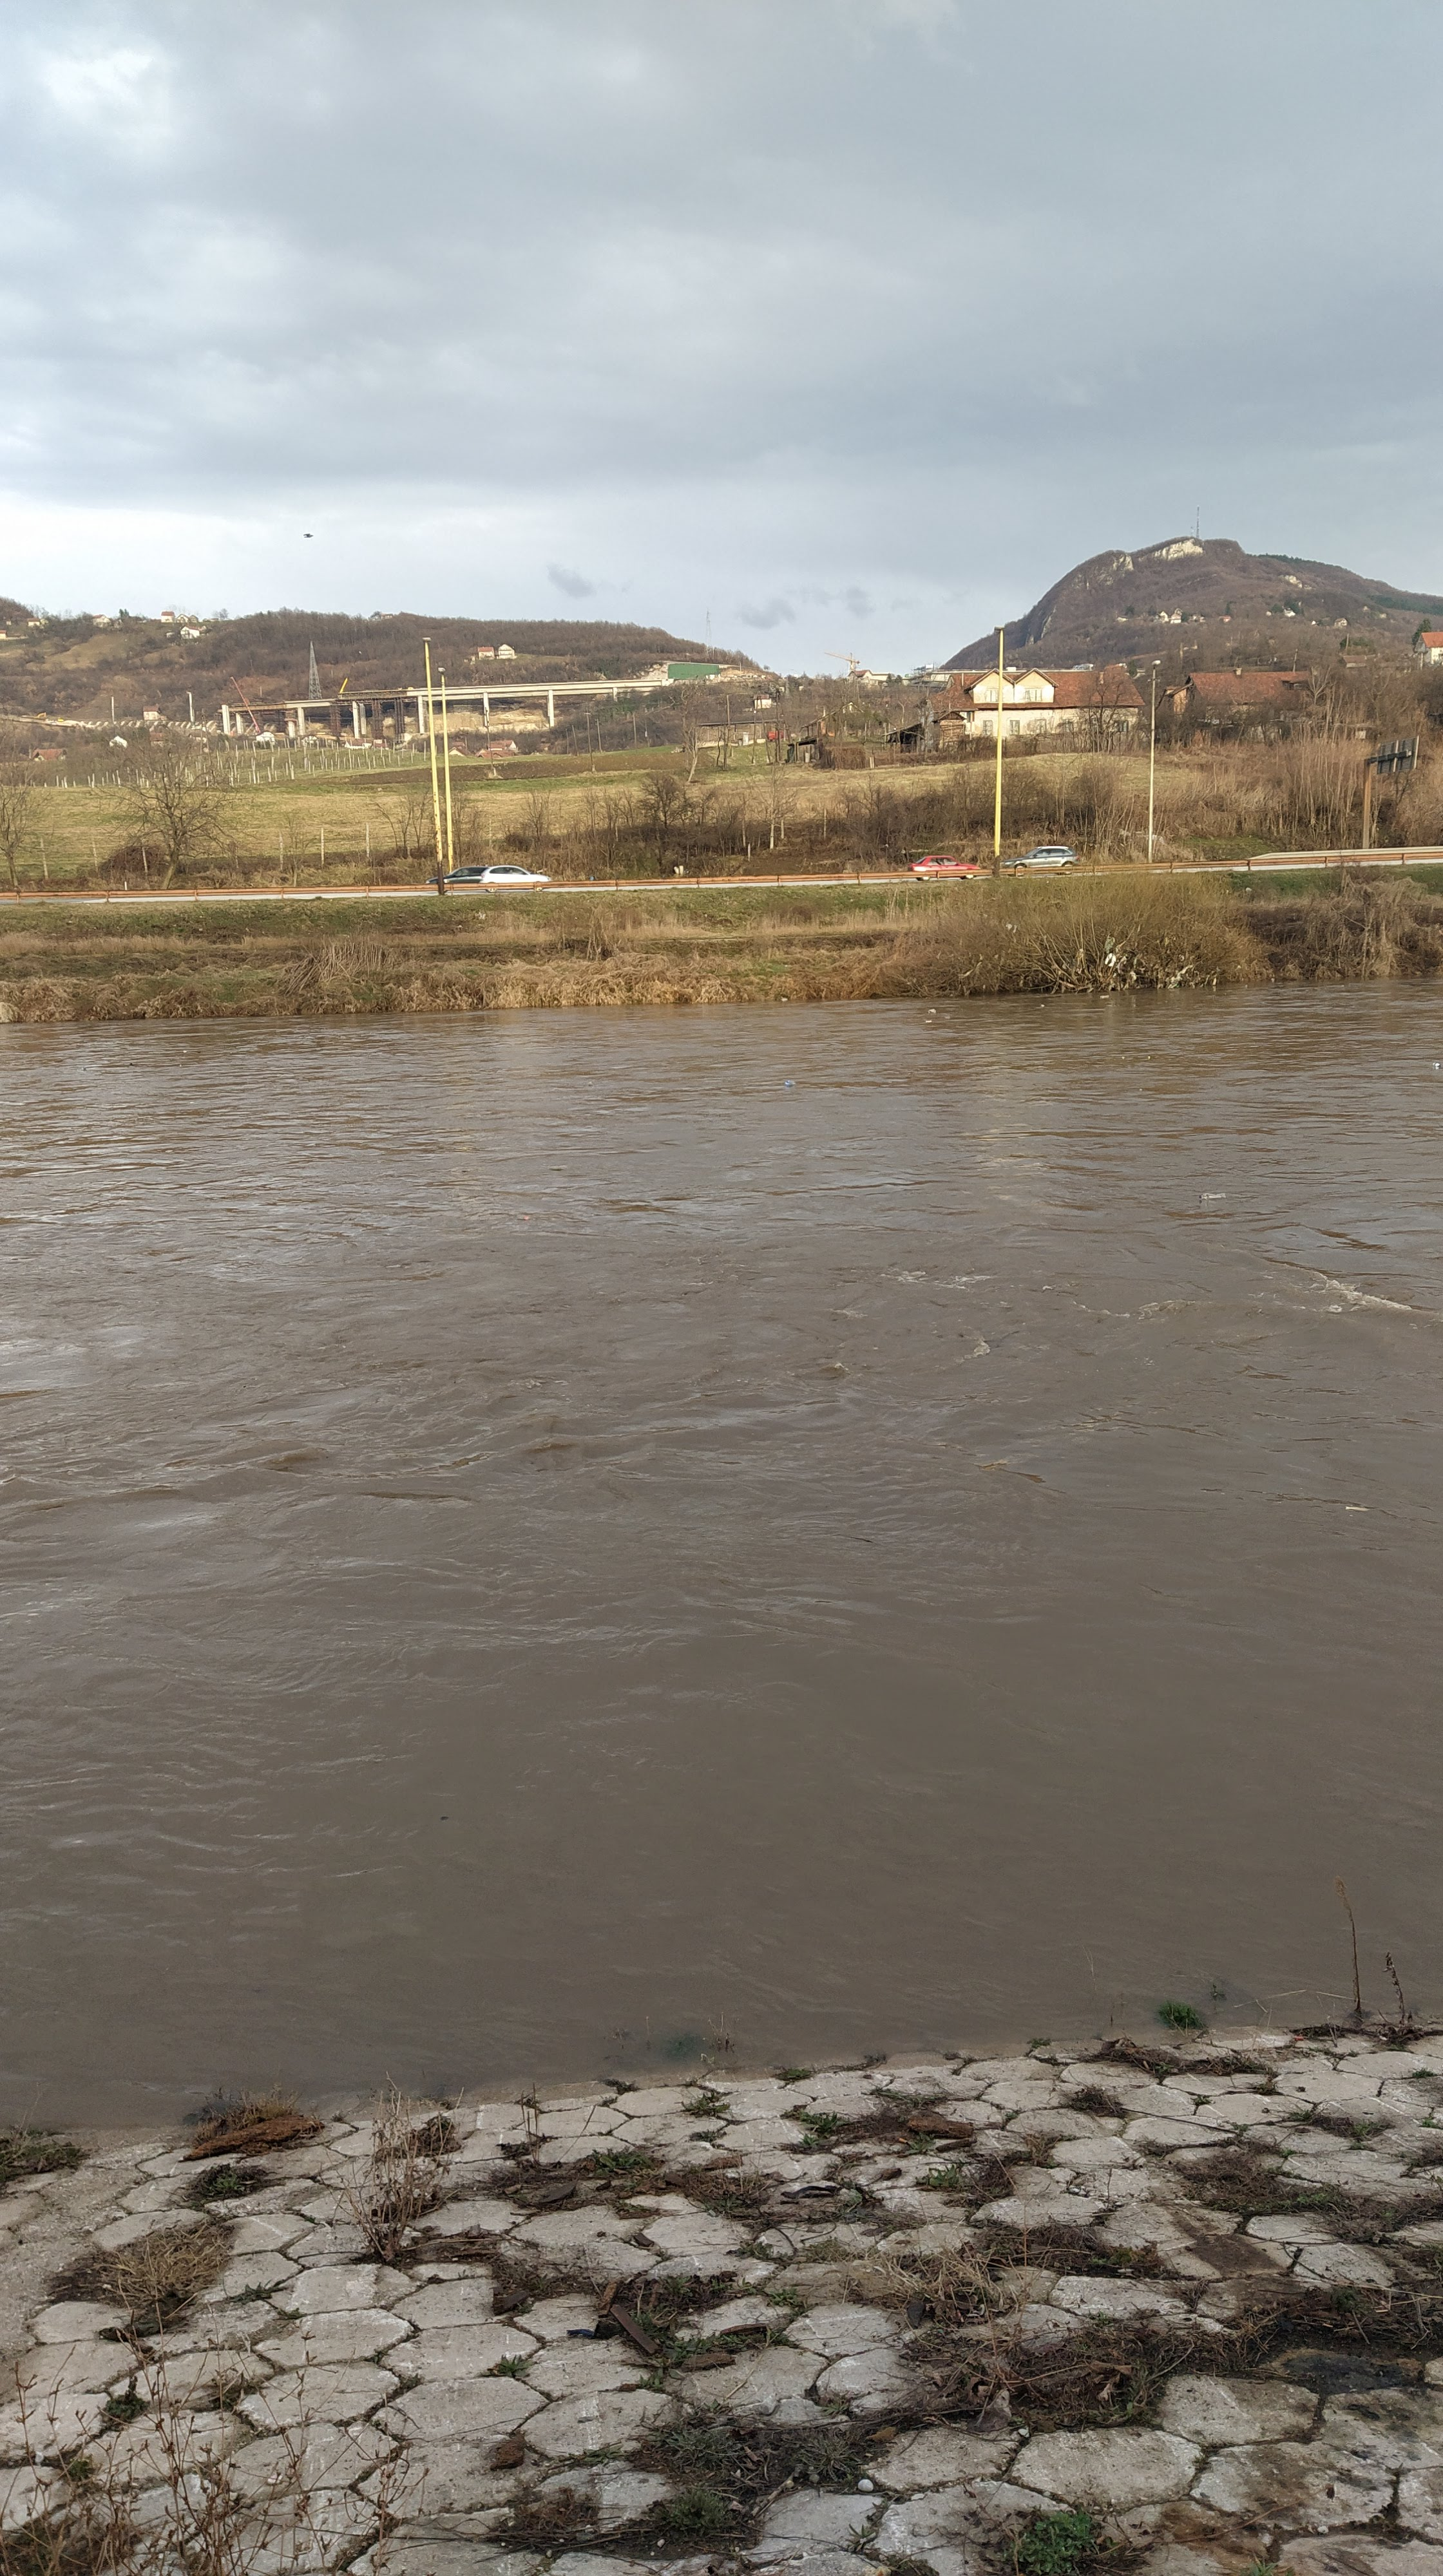Plastic Bottle: (1199, 1192, 1225, 1200), (549, 1164, 565, 1169), (784, 1081, 795, 1086), (1100, 994, 1108, 1000), (1434, 1062, 1439, 1067), (928, 1008, 935, 1012), (924, 1021, 931, 1023)
